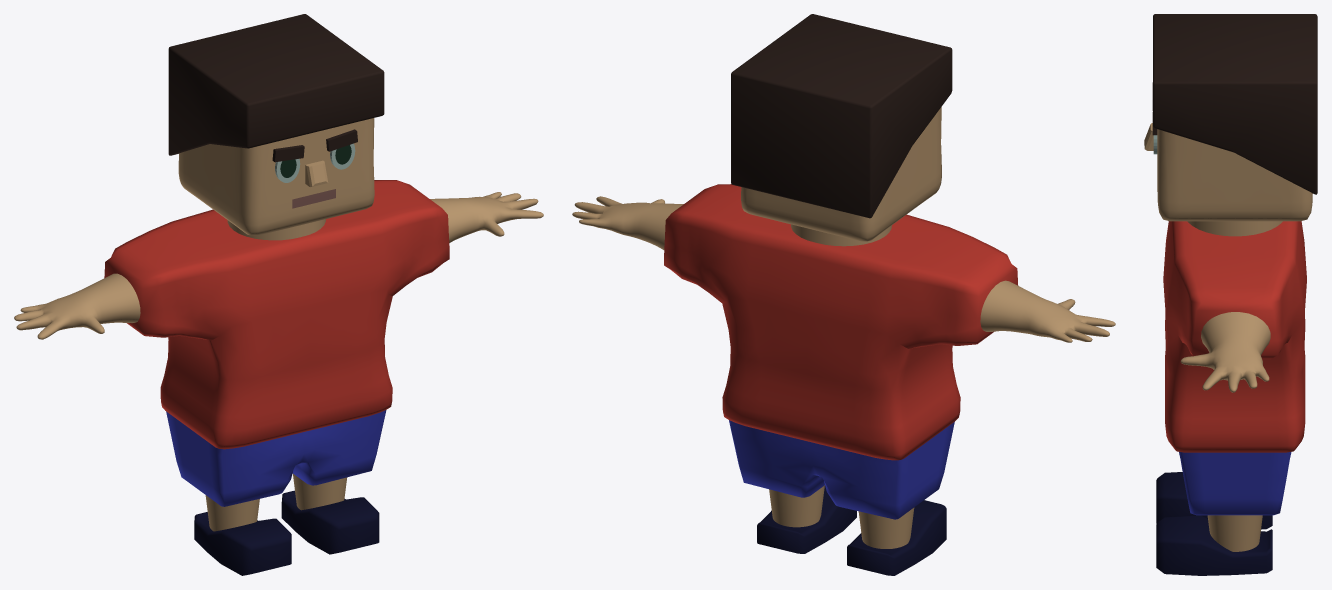
Rendered from pers3 3.fbx.
3 renders of one model, left to right at view 1: azimuth 30°, elevation 25°; view 2: azimuth 150°, elevation 25°; view 3: azimuth 270°, elevation 25°, orthographic. The views are drawn at different scales.
Visible parts, largest first — view 1: Retopo_Cube; view 2: Retopo_Cube; view 3: Retopo_Cube.
Part boxes in pixels (x1,y1,x2,y2): Retopo_Cube: (14,14,543,575); Retopo_Cube: (572,14,1115,575); Retopo_Cube: (1144,14,1317,575).
Size of the model in its own units: 197 by 171 by 54.67.
